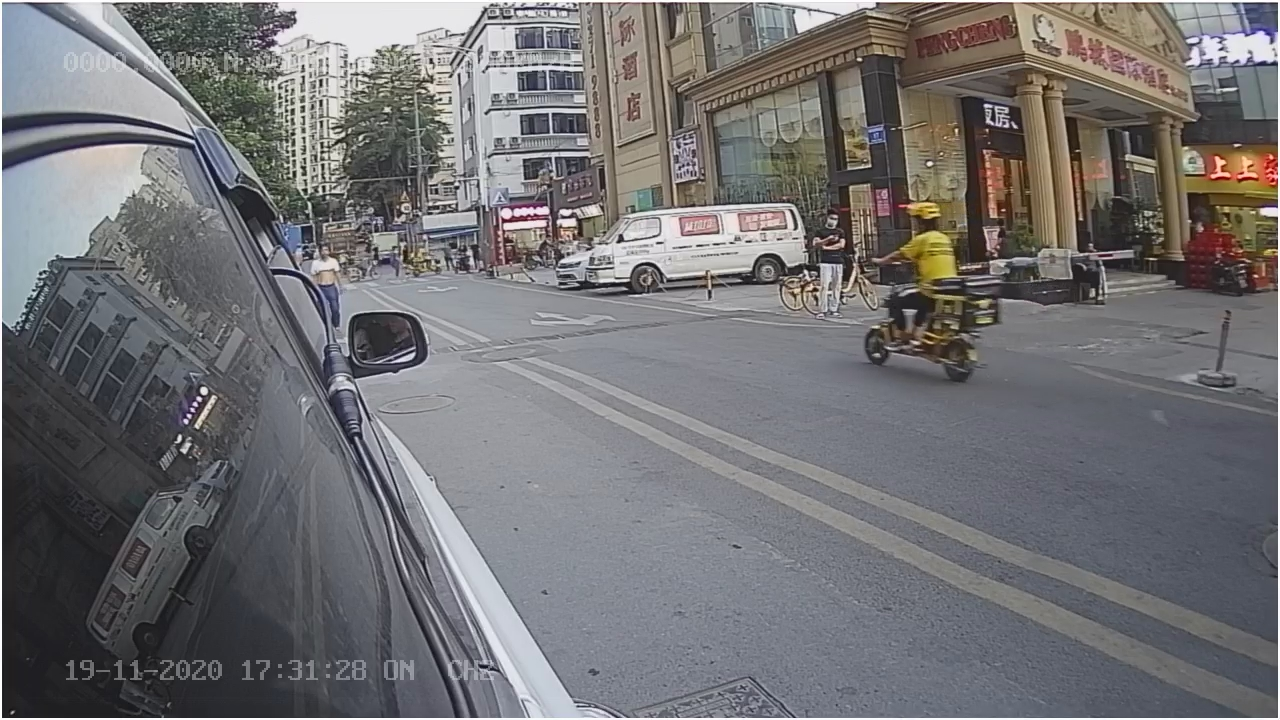person: (879, 195, 965, 272)
